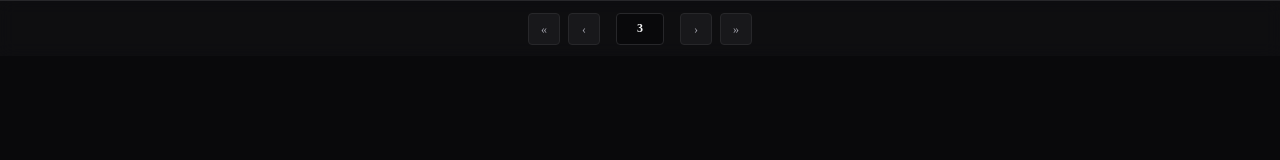
Scenario: FooterComponent Coverage Test Suite › Page Jumper Input Handlers › should restore original state value to field whenever element loses focus via blur events
Simulate typing an arbitrary value
Replace the text in the field with "45". click: (640, 28)
box: [616, 12, 664, 44]
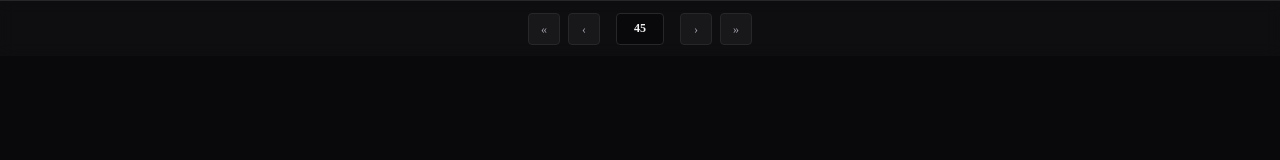
Leave the field, box [616, 12, 664, 44]
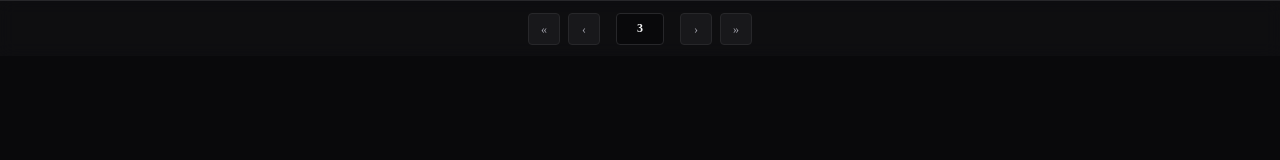
Expected: the field holds "3", [616, 12, 664, 44]
